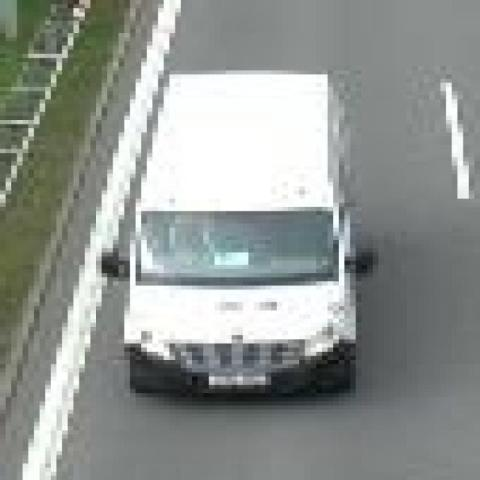van: (124, 74, 350, 401)
